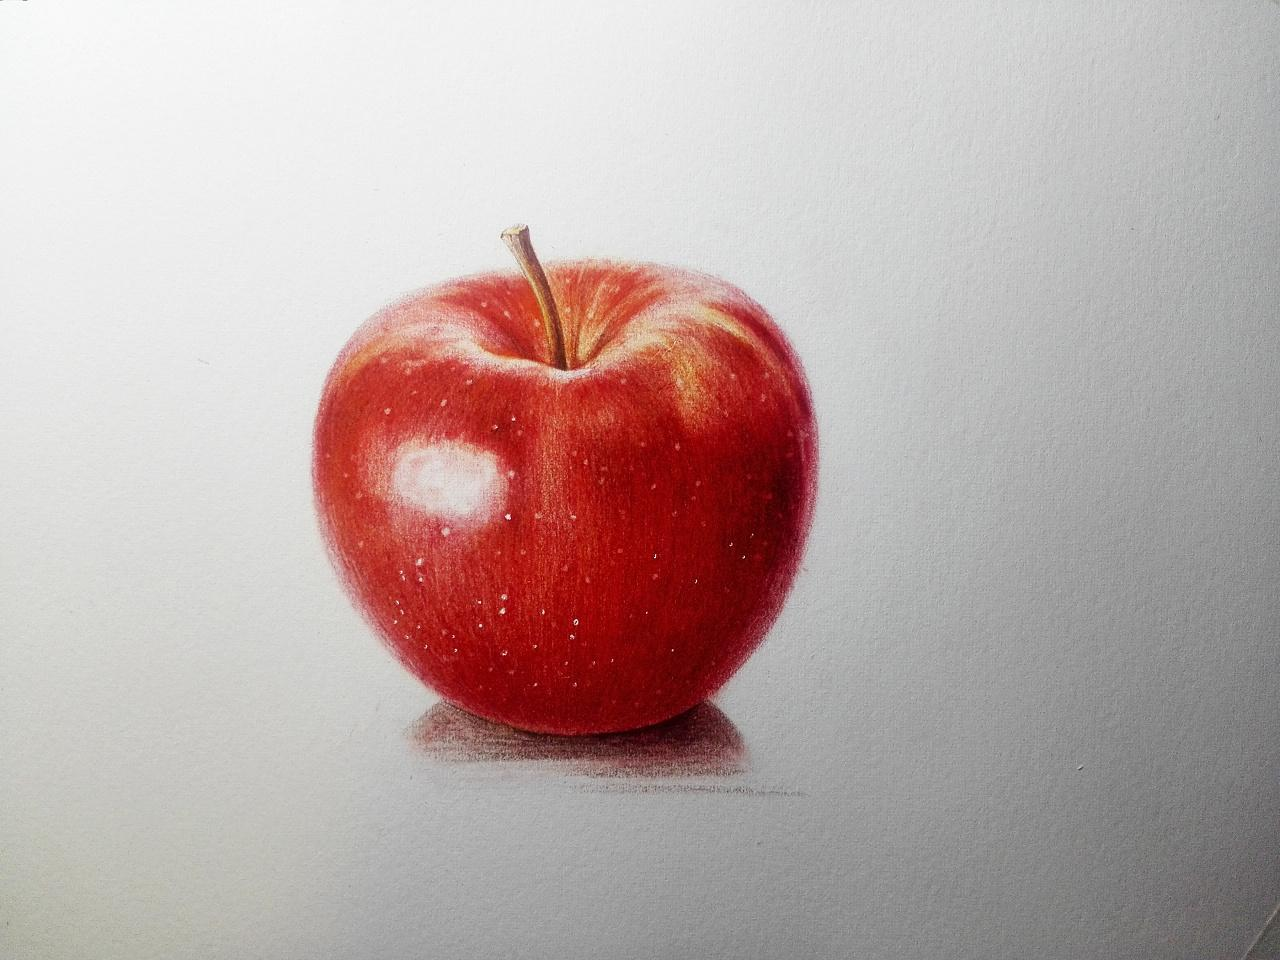apple: (314, 229, 819, 739)
